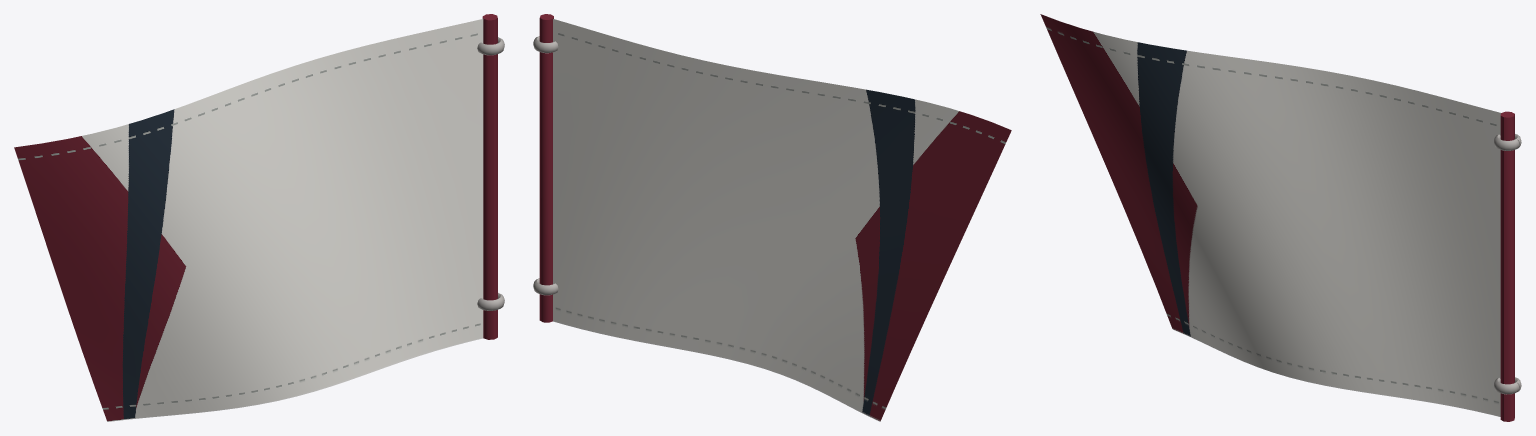
File: Pennant_11_R_舷窓・臙脂.glb
The picture shows the model from 3 angles, left to right: view 1: azimuth 30°, elevation 25°; view 2: azimuth 150°, elevation 25°; view 3: azimuth 330°, elevation 25°; orthographic projection. The views are drawn at different scales.
Parts seen in each view (by area): view 1: Pennant_11_R; view 2: Pennant_11_R; view 3: Pennant_11_R.
Part boxes in pixels (x1,y1,x2,y2): Pennant_11_R: (14, 14, 504, 421); Pennant_11_R: (533, 14, 1011, 421); Pennant_11_R: (1040, 14, 1521, 421).
Bounding box in the file's own units: 0.2925 × 0.1839 × 0.0301.
3 materials, 3 textured.
